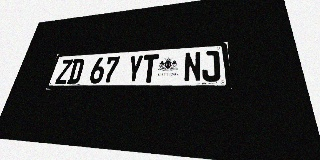6: (88, 57, 107, 83)
7: (102, 56, 120, 83)
D: (67, 58, 85, 84)
J: (201, 50, 221, 82)
N: (184, 51, 201, 82)
T: (141, 54, 159, 83)
Y: (126, 55, 144, 83)
Z: (55, 59, 73, 84)
